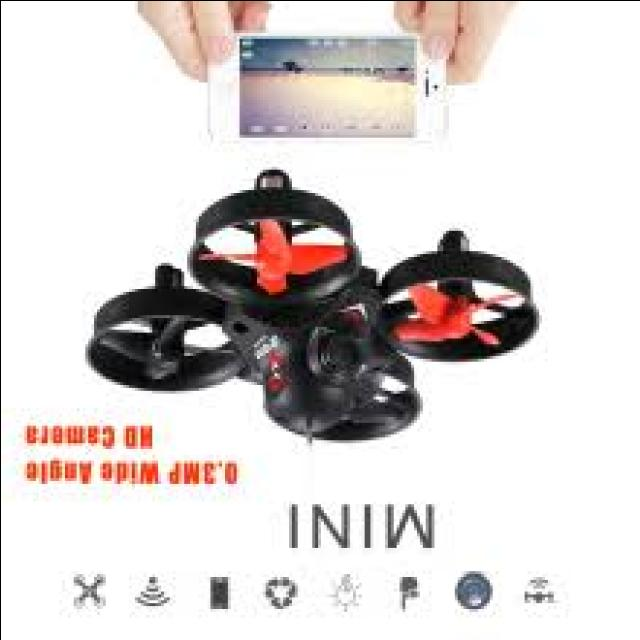drone: (59, 152, 549, 460)
